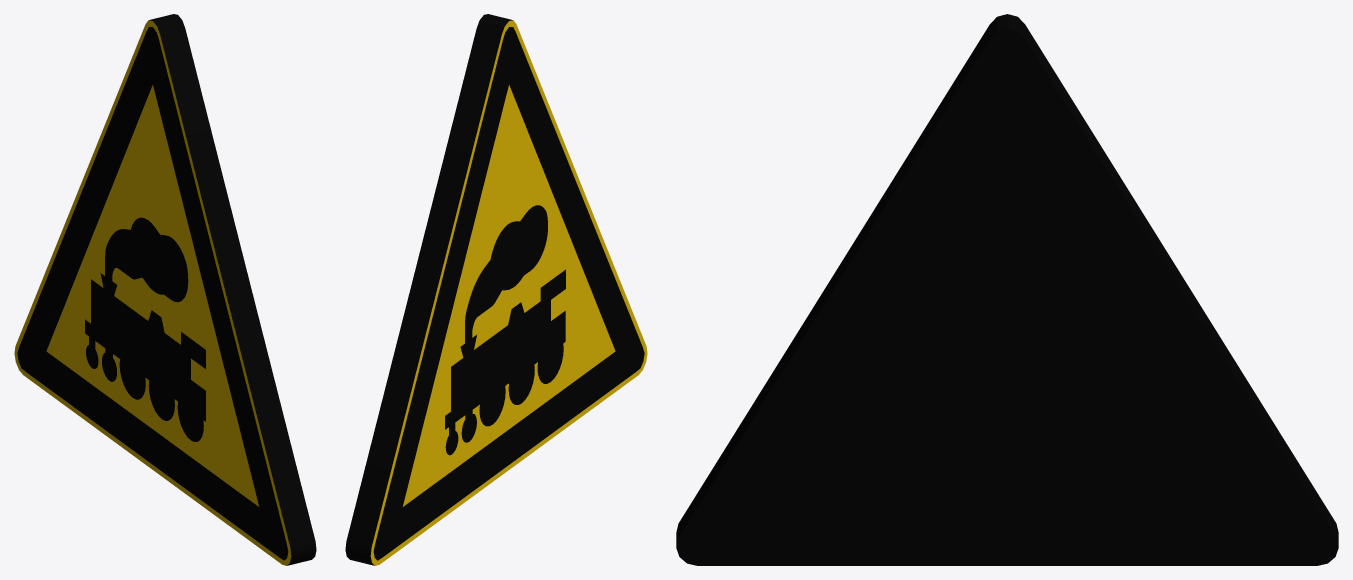
The model's file is Unmanned_RailWay_Crossing.fbx.
The picture shows the model from 3 angles, left to right: view 1: azimuth 30°, elevation 25°; view 2: azimuth 150°, elevation 25°; view 3: azimuth 270°, elevation 25°; orthographic projection. The views are drawn at different scales.
Parts seen in each view (by area): view 1: Unmanned_RailWay_Crossing; view 2: Unmanned_RailWay_Crossing; view 3: Unmanned_RailWay_Crossing.
Part boxes in pixels (box(x1,y1,x2,y2)): Unmanned_RailWay_Crossing: box(14, 14, 316, 565); Unmanned_RailWay_Crossing: box(345, 14, 647, 565); Unmanned_RailWay_Crossing: box(676, 14, 1338, 565).
Bounding box in the file's own units: 0.0643 × 1.02 × 1.14.
